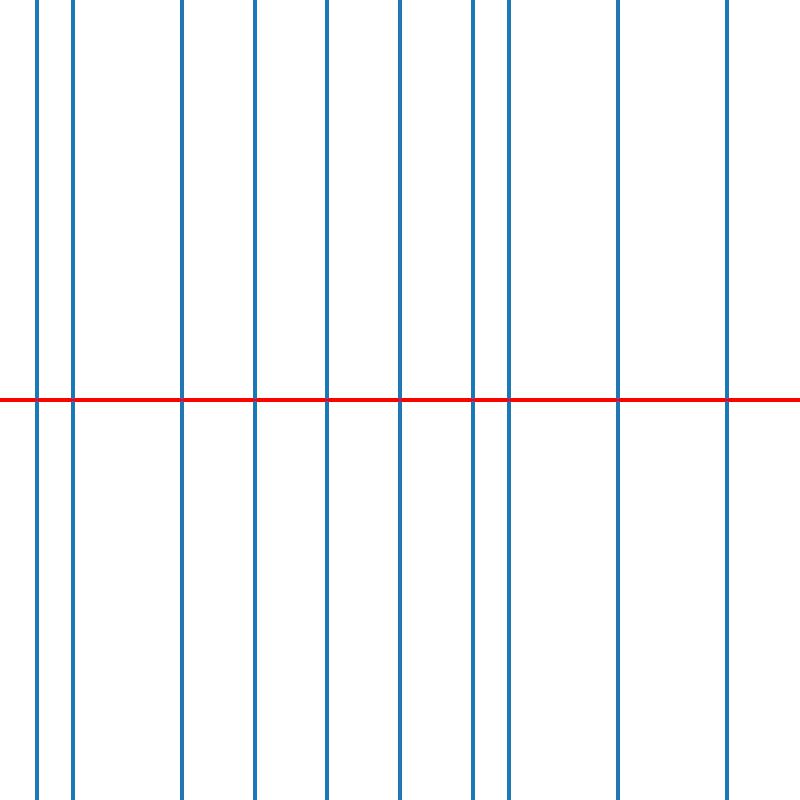root: (250, 396, 258, 404), (32, 396, 40, 404), (69, 396, 76, 404), (614, 396, 621, 404), (469, 396, 476, 404), (323, 396, 330, 404), (178, 396, 185, 404), (505, 396, 512, 404), (723, 396, 730, 404), (396, 396, 403, 404)
